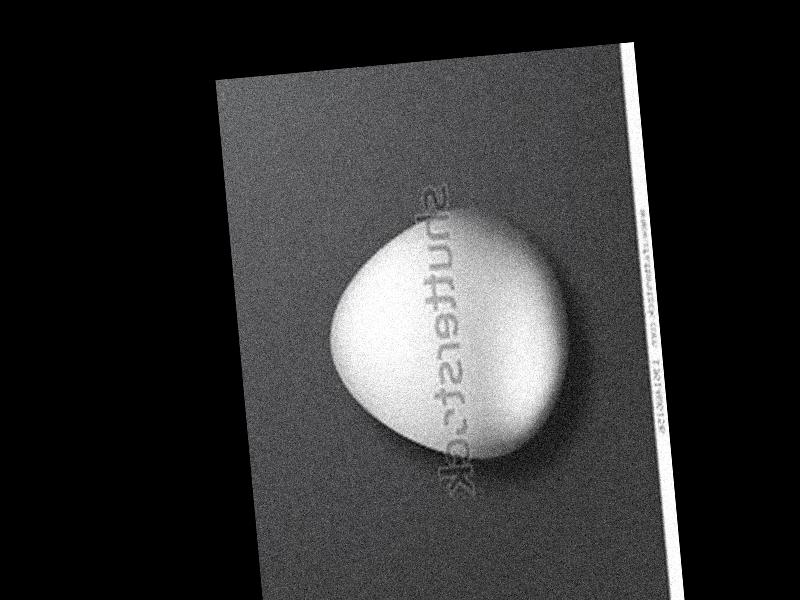Eggs: (317, 199, 576, 471)
